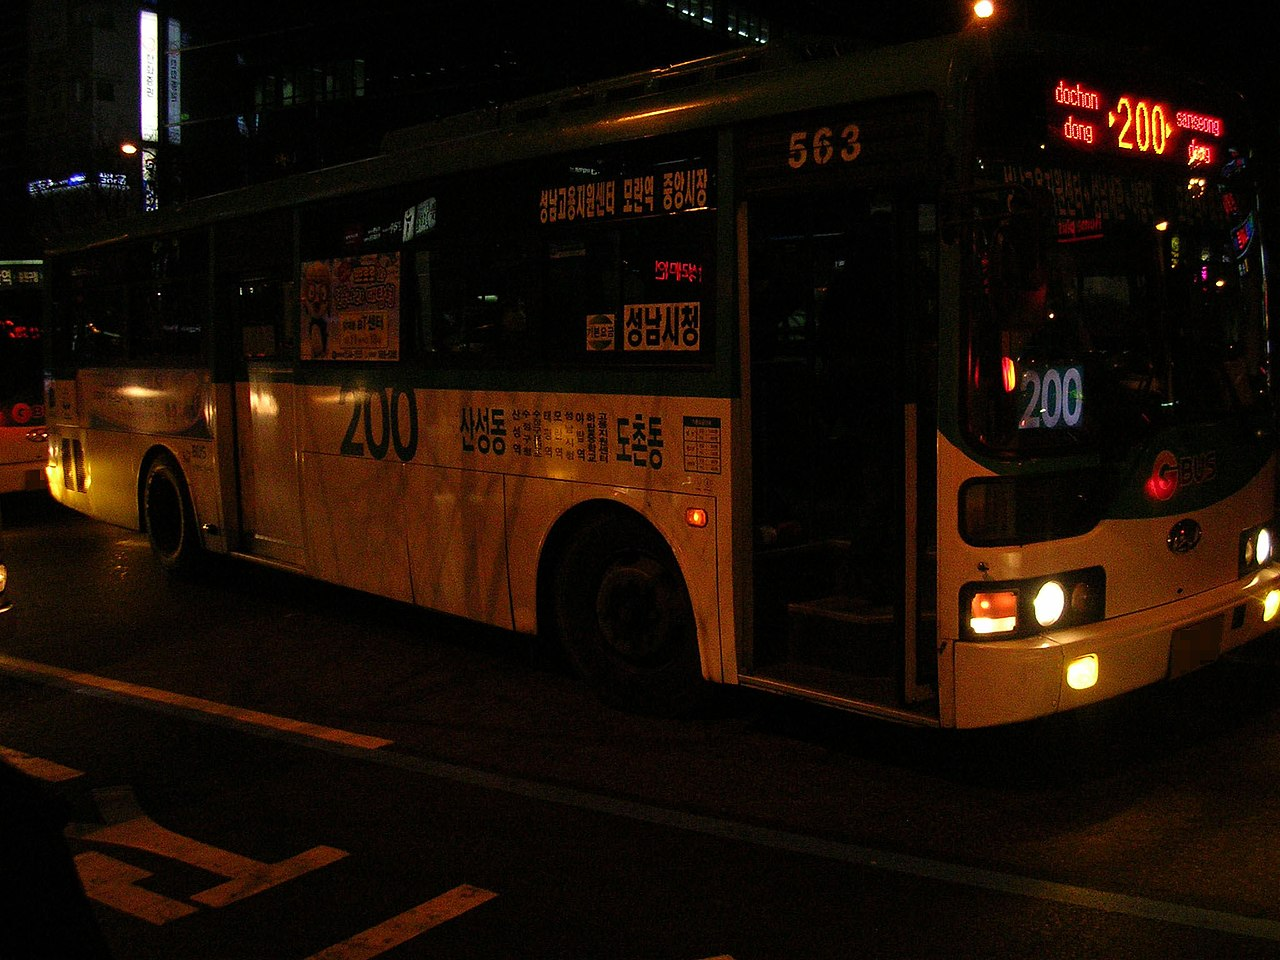bnum: (1012, 363, 1087, 434)
